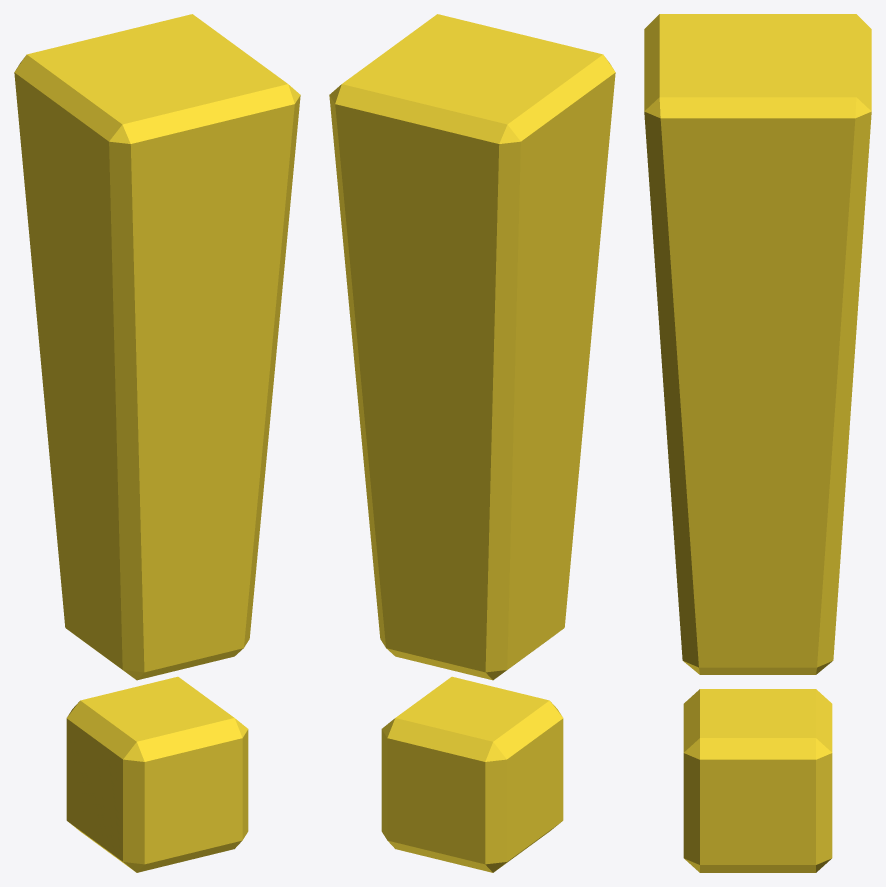
The model's file is exclamation.fbx.
The picture shows the model from 3 angles, left to right: view 1: azimuth 30°, elevation 25°; view 2: azimuth 150°, elevation 25°; view 3: azimuth 270°, elevation 25°; orthographic projection. The views are drawn at different scales.
Parts seen in each view (by area): view 1: Cube; view 2: Cube; view 3: Cube.
Boxes of the visible parts, x1,y1,x2,y2 form: Cube: (14, 14, 300, 872); Cube: (329, 14, 615, 872); Cube: (644, 14, 871, 872).
Size of the model in its own units: 306 by 1176 by 306.
